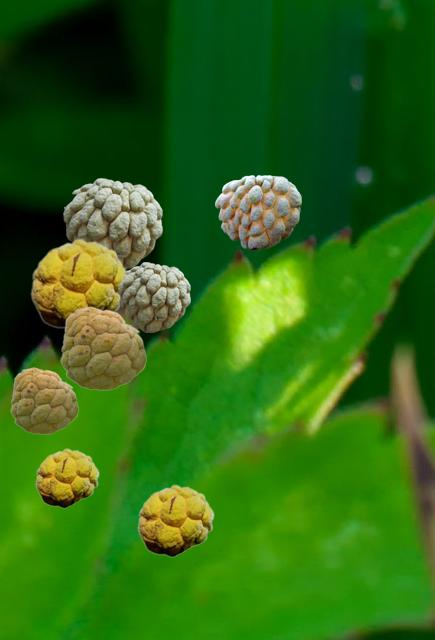atis: (30, 238, 127, 330), (63, 178, 161, 268), (60, 306, 145, 389), (215, 175, 300, 249), (137, 484, 213, 556), (118, 262, 189, 331), (10, 367, 77, 433), (35, 448, 98, 507)
